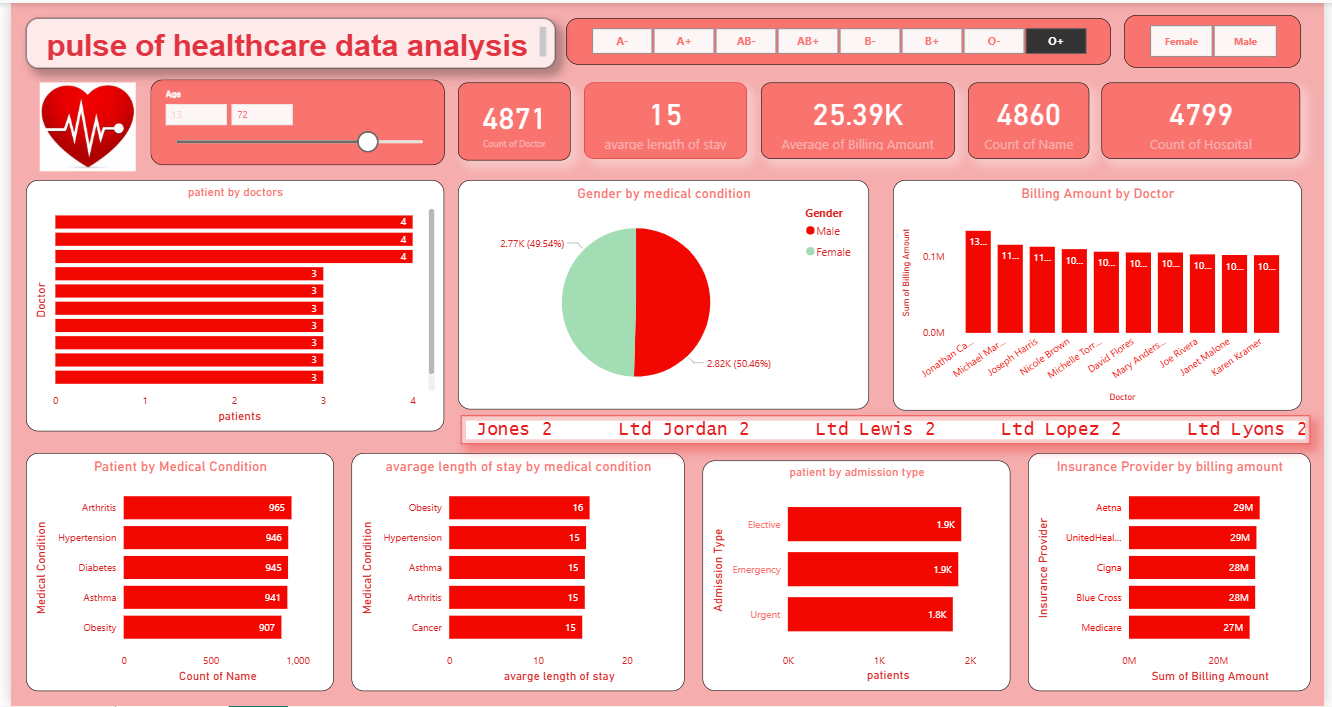

What the dashboard file says about the page in this screenshot:
{"tool":"powerbi","page":{"name":"Page 1","canvas":[1594,854],"ordinal":0},"visuals":[{"type":"slicer","fields":{"Values":["healthcare_dataset.Blood Type"]},"box":[675.1,18.9,661.9,56.6],"z":0},{"type":"slicer","fields":{"Values":["healthcare_dataset.Age"]},"box":[169.5,92.9,357.2,103.9],"z":1000},{"type":"slicer","fields":{"Values":["healthcare_dataset.Gender"]},"box":[1352,15.1,215,64.1],"z":2000},{"type":"image","box":[18.2,91.1,149.4,118.4],"z":3000},{"type":"textbox","box":[18.9,18.9,643,61],"z":4000},{"type":"barChart","title":"patient by doctors ","fields":{"Category":["healthcare_dataset.Doctor"],"Y":["Count(healthcare_dataset.Name)"]},"box":[18.3,214.8,508.1,305.1],"z":5000},{"type":"barChart","title":"Patient by Medical Condition","fields":{"Category":["healthcare_dataset.Medical Condition"],"Y":["CountNonNull(healthcare_dataset.Name)"]},"box":[18.8,546,374.2,289.5],"z":6000},{"type":"barChart","title":"avarage length of stay by medical condition","fields":{"Y":["healthcare_dataset.avarge length of stay"],"Category":["healthcare_dataset.Medical Condition"]},"box":[414.2,546,404.8,289.5],"z":7000},{"type":"pieChart","title":"Gender by medical condition","fields":{"Category":["healthcare_dataset.Gender"],"Y":["CountNonNull(healthcare_dataset.Medical Condition)"]},"box":[543,215,499.3,278.8],"z":8000},{"type":"clusteredColumnChart","title":" Billing Amount by Doctor","fields":{"Category":["healthcare_dataset.Doctor"],"Y":["Sum(healthcare_dataset.Billing Amount)"]},"box":[1070.8,214.2,496.6,280.1],"z":9000},{"type":"clusteredBarChart","title":" Insurance Provider by billing amount","fields":{"Category":["healthcare_dataset.Insurance Provider"],"Y":["Sum(healthcare_dataset.Billing Amount)"]},"box":[1235.5,546,343.6,289.5],"z":10000},{"type":"card","fields":{"Values":["Count(healthcare_dataset.Name)"]},"box":[1162.6,96.6,147.6,92.9],"z":11000},{"type":"card","fields":{"Values":["Avg(healthcare_dataset.Billing Amount)"]},"box":[911.1,96.6,235.1,92.9],"z":12000},{"type":"card","fields":{"Values":["Count(healthcare_dataset.Hospital)"]},"box":[1325.6,96.2,241.4,92.4],"z":13000},{"type":"card","fields":{"Values":["Count(healthcare_dataset.Doctor)"]},"box":[543,96.6,136.7,94.8],"z":14000},{"type":"ScrollingTextVisual1448795304508","fields":{"Category":["healthcare_dataset.Hospital"],"Measure Absolute":["CountNonNull(healthcare_dataset.Name)"]},"box":[546.7,501.1,1031.4,34.6],"z":15000},{"type":"card","fields":{"Values":["healthcare_dataset.avarge length of stay"]},"box":[695.8,96.2,198,92.4],"z":16000},{"type":"barChart","title":"patient by admission type","fields":{"Y":["CountNonNull(healthcare_dataset.Name)"],"Category":["healthcare_dataset.Admission Type"]},"box":[840.2,555.4,374.2,280.1],"z":17000}]}

Visuals, with their boxes in screenshot pixels (x1, y1, x2, y2), scaled from the page's 1594x854 canvas onto the 1332x707 screenshot:
slicer - healthcare_dataset.Blood Type: [564,16,1117,63]
slicer - healthcare_dataset.Age: [142,77,440,163]
slicer - healthcare_dataset.Gender: [1130,13,1309,66]
image: [15,75,140,173]
textbox: [16,16,553,66]
"patient by doctors " barChart: [15,178,440,430]
"Patient by Medical Condition" barChart: [16,452,328,692]
"avarage length of stay by medical condition" barChart: [346,452,684,692]
"Gender by medical condition" pieChart: [454,178,871,409]
" Billing Amount by Doctor" clusteredColumnChart: [895,177,1310,409]
" Insurance Provider by billing amount" clusteredBarChart: [1032,452,1320,692]
card - Count(healthcare_dataset.Name): [972,80,1095,157]
card - Avg(healthcare_dataset.Billing Amount): [761,80,958,157]
card - Count(healthcare_dataset.Hospital): [1108,80,1309,156]
card - Count(healthcare_dataset.Doctor): [454,80,568,158]
ScrollingTextVisual1448795304508 - healthcare_dataset.Hospital x CountNonNull(healthcare_dataset.Name): [457,415,1319,443]
card - healthcare_dataset.avarge length of stay: [581,80,747,156]
"patient by admission type" barChart: [702,460,1015,692]
